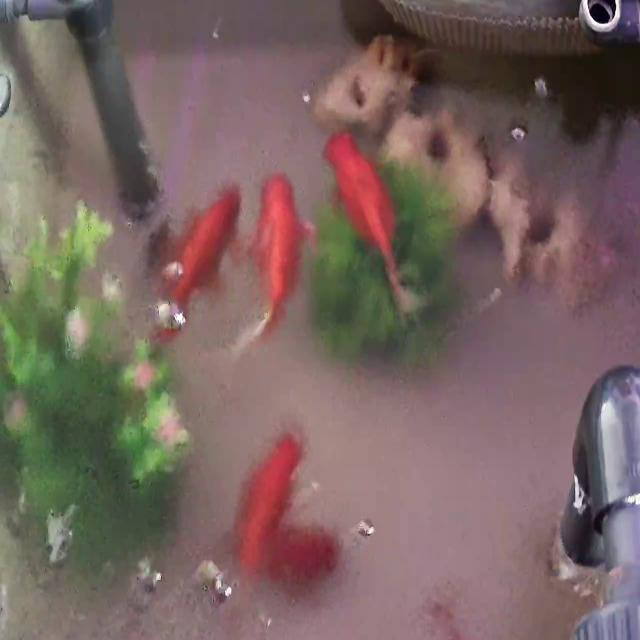fish: (324, 131, 404, 317), (149, 180, 242, 339), (236, 172, 308, 354), (235, 427, 303, 575), (267, 522, 340, 588)
